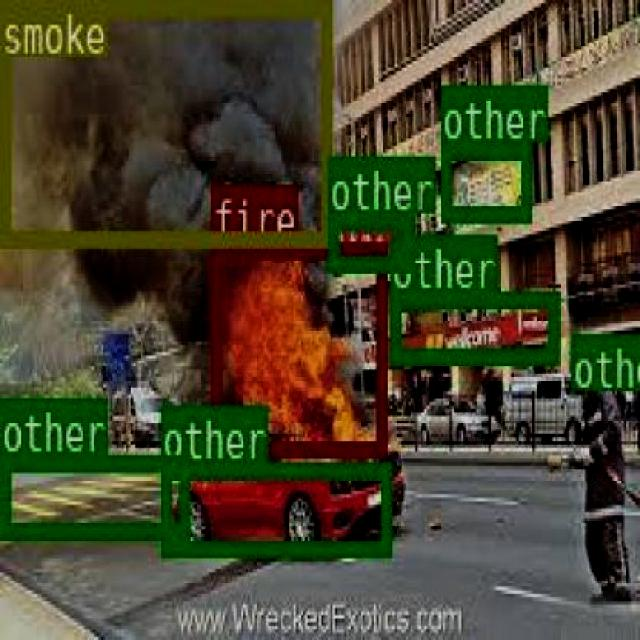fire: (211, 239, 384, 453)
smoke: (0, 0, 329, 245)
